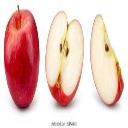apple: (89, 13, 125, 110)
